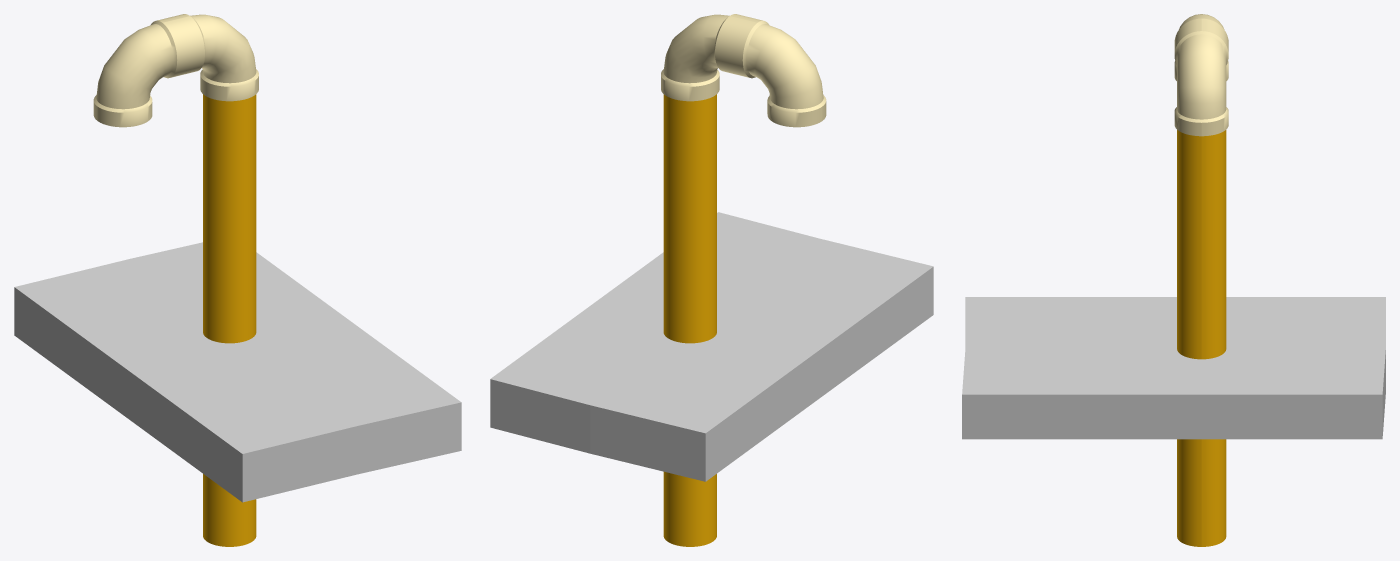
File: ventilacion.glb
The picture shows the model from 3 angles, left to right: view 1: azimuth 30°, elevation 25°; view 2: azimuth 150°, elevation 25°; view 3: azimuth 270°, elevation 25°; orthographic projection. The views are drawn at different scales.
Parts seen in each view (by area): view 1: Geom3D (×3); view 2: Geom3D (×3); view 3: Geom3D (×3).
Boxes of the visible parts, x1,y1,x2,y2 form: Geom3D (×3): (14, 14, 461, 546); Geom3D (×3): (490, 14, 933, 546); Geom3D (×3): (962, 14, 1385, 546).
Bounding box in the file's own units: 0.5055 × 1.09 × 0.8602.
